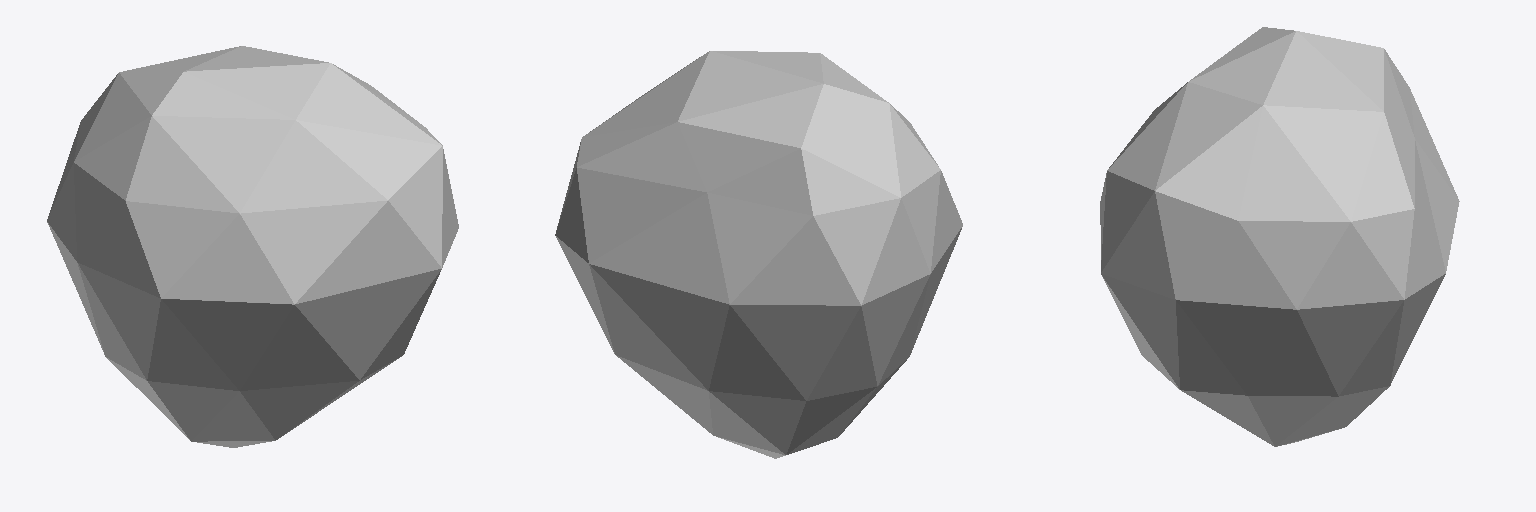
Rendered from O_JungleWorldIsland_c.obj.
The picture shows the model from 3 angles: view 1: azimuth 30°, elevation 25°; view 2: azimuth 150°, elevation 25°; view 3: azimuth 270°, elevation 25°; orthographic projection.
Visible parts, largest first — view 1: Floating_Island_3; view 2: Floating_Island_3; view 3: Floating_Island_3.
Boxes of the visible parts, x1=… form: Floating_Island_3: x1=47, y1=46, x2=458, y2=447; Floating_Island_3: x1=555, y1=51, x2=962, y2=458; Floating_Island_3: x1=1100, y1=27, x2=1459, y2=446.
Bounding box in the file's own units: 455 × 493 × 414.